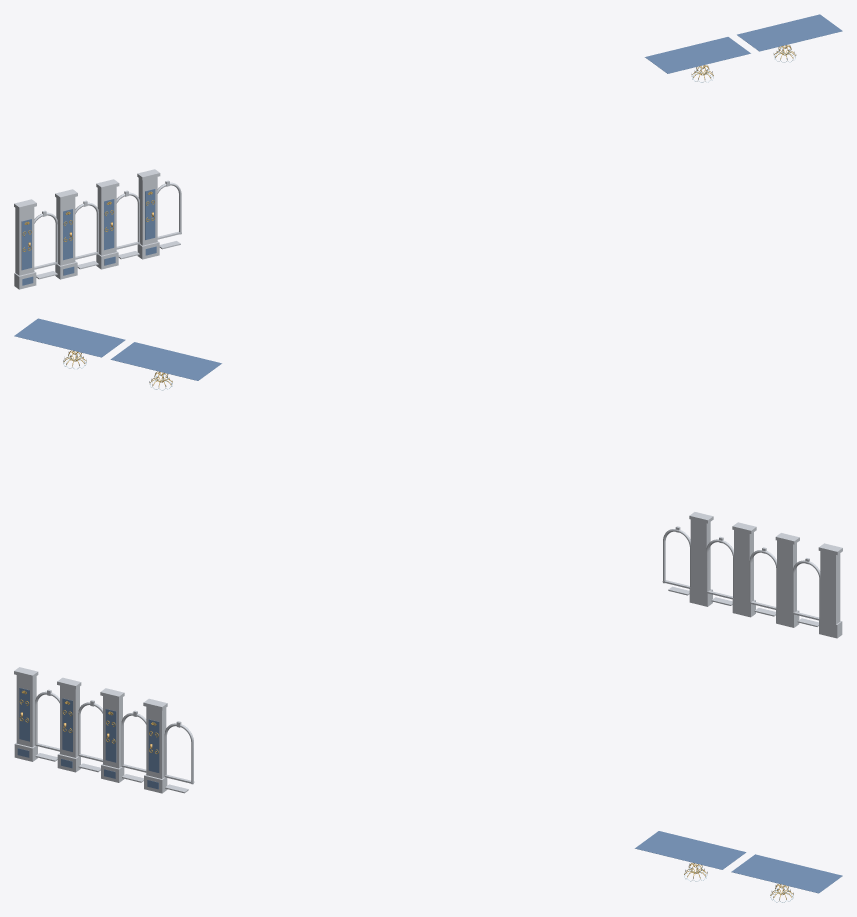
The model's file is KRM_STATIC_018.fbx.
The picture shows the model from 3 angles, top to bottom: view 1: azimuth 30°, elevation 25°; view 2: azimuth 150°, elevation 25°; view 3: azimuth 330°, elevation 25°; orthographic projection. The views are drawn at different scales.
Parts seen in each view (by area): view 1: KRM_STATIC_018; view 2: KRM_STATIC_018; view 3: KRM_STATIC_018.
Boxes of the visible parts, <box> form: KRM_STATIC_018: <box>14,14,842,289</box>; KRM_STATIC_018: <box>14,318,842,638</box>; KRM_STATIC_018: <box>14,667,842,902</box>.
Size of the model in its own units: 5805 by 600 by 430.
1 material, 1 textured.
